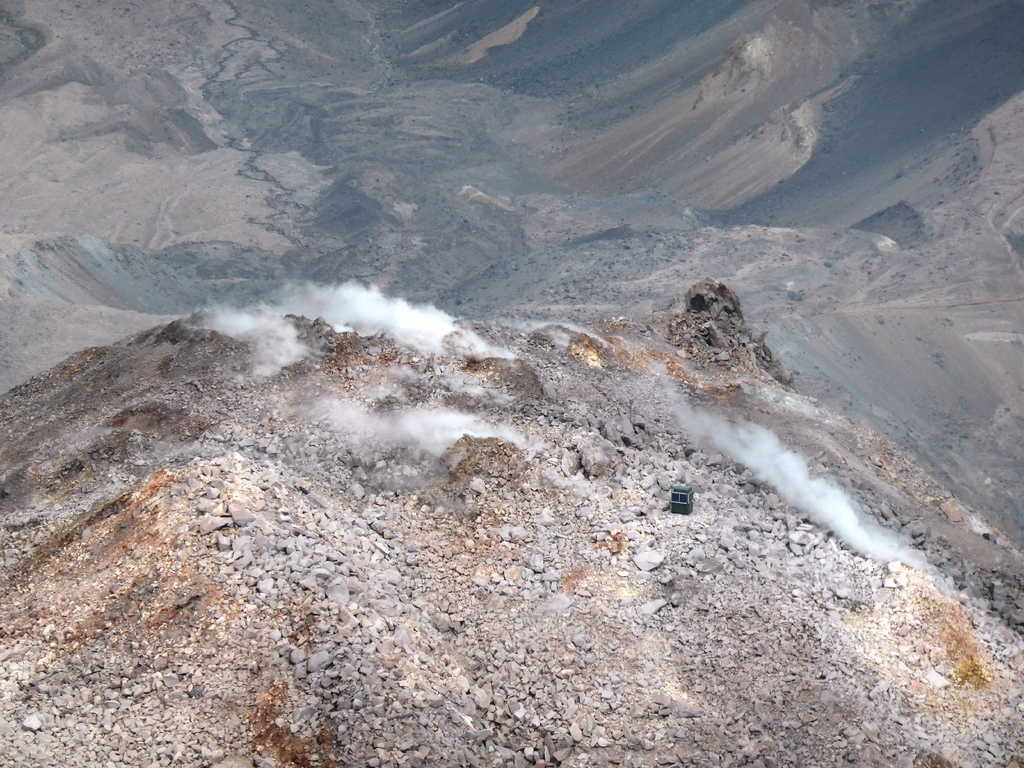person: (566, 272, 796, 394)
